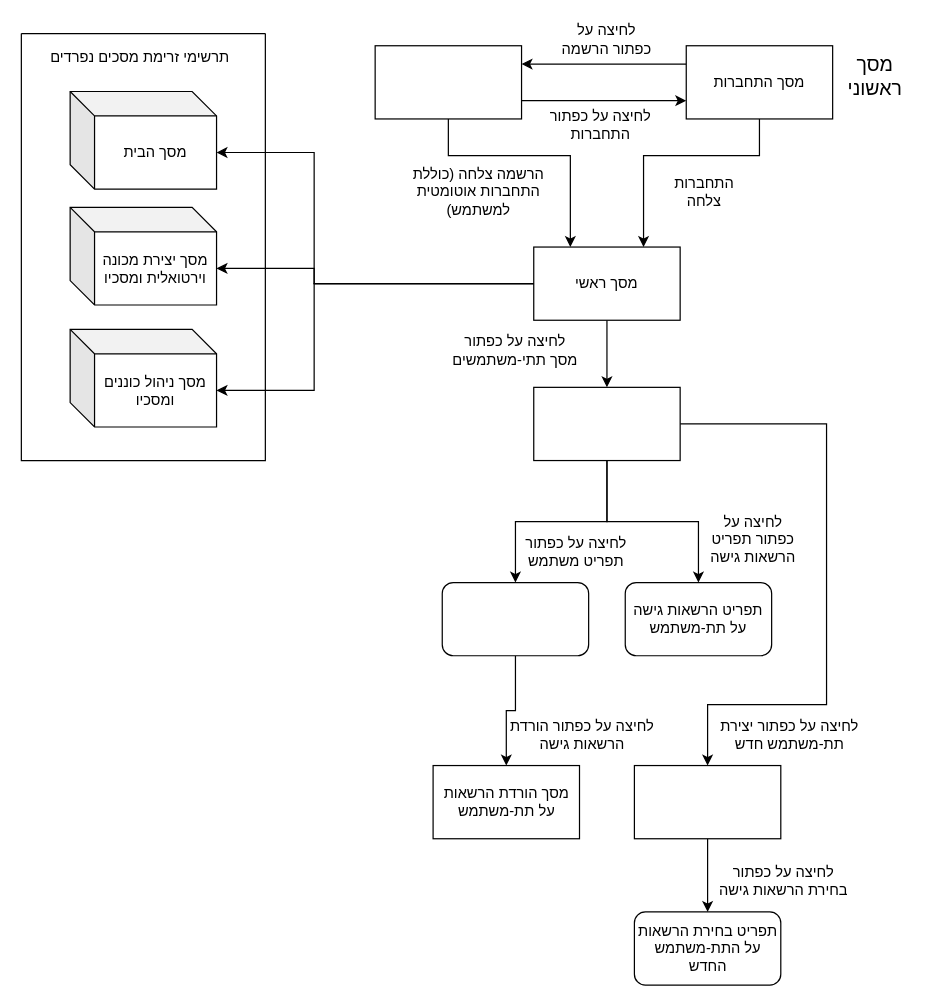
Image size: 933x1007. Some labels were removed from this diagram. Here are the shapes that lost their labels. From the top down, the centre of each, then its label:
At point 448,82: "מסך הרשמה".
At point 606,423: "מסך תתי-משתמשים".
At point 515,618: "תפריט משתמש".
At point 707,801: "מסך יצירת תת-משתמש חדש".
